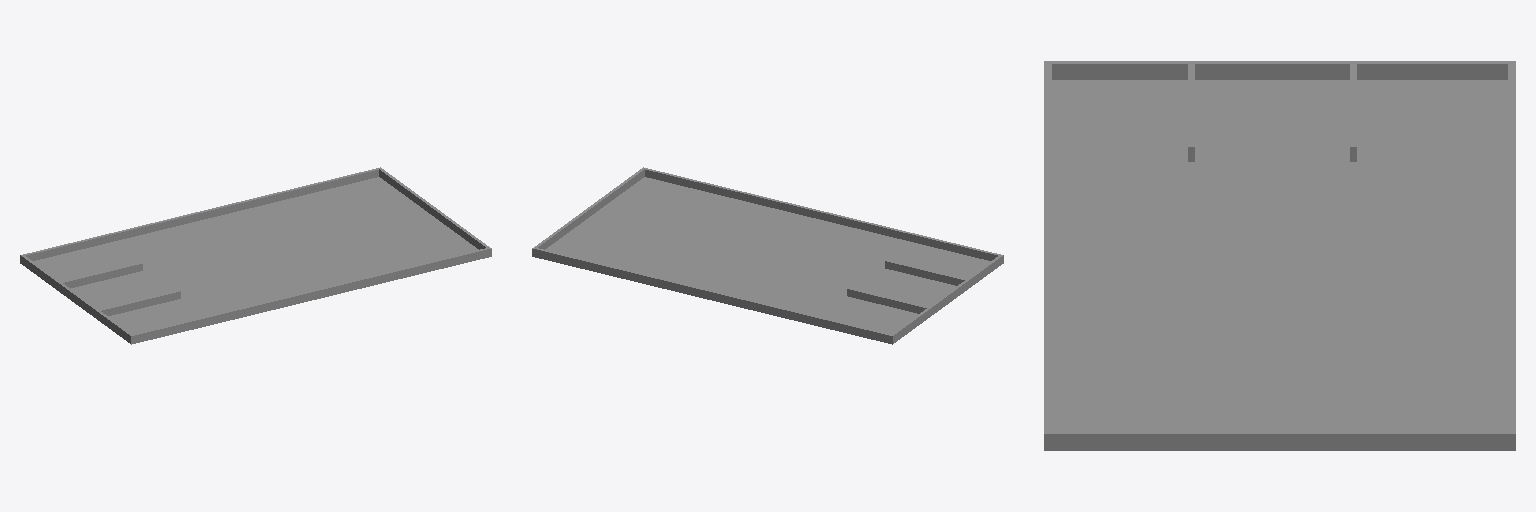
URDF robot description (f3rc2026_map_v1):
<?xml version="1.0" ?>
<!-- =================================================================================== -->
<!-- |    This document was autogenerated by xacro from /home/hao/Ubuntu_3/Private/simulator/ros2_ws/src/gazebo_simulator/models/f3rc2026_map_v1/urdf/f3rc2026_map_v1.xacro | -->
<!-- |    EDITING THIS FILE BY HAND IS NOT RECOMMENDED                                 | -->
<!-- =================================================================================== -->
<robot name="f3rc2026_map_v1">
  <material name="silver_default">
    <color rgba="0.700 0.700 0.700 1.000"/>
  </material>
  <material name="_">
    <color rgba="0.6274509803921569 0.6274509803921569 0.6274509803921569 1.0"/>
  </material>
  <link name="base_link">
    <inertial>
      <origin rpy="0 0 0" xyz="2.25 1.2 0.005"/>
      <mass value="847.8"/>
      <inertia ixx="406.951065" ixy="0.0" ixz="0.0" iyy="1430.669565" iyz="0.0" izz="1837.6065"/>
    </inertial>
    <visual>
      <origin rpy="0 0 0" xyz="0 0 0"/>
      <geometry>
        <mesh filename="package://f3rc2026_map_v1/meshes/base_link.stl" scale="0.001 0.001 0.001"/>
      </geometry>
      <material name="_"/>
    </visual>
    <collision>
      <origin rpy="0 0 0" xyz="0 0 0"/>
      <geometry>
        <mesh filename="package://f3rc2026_map_v1/meshes/base_link.stl" scale="0.001 0.001 0.001"/>
      </geometry>
    </collision>
  </link>
  <link name="2400_v2_1">
    <inertial>
      <origin rpy="0 0 0" xyz="0.0 2.220446049250313e-16 0.04449999999999997"/>
      <mass value="63.71688"/>
      <inertia ixx="30.626161" ixy="0.0" ixz="-0.0" iyy="0.049726" iyz="0.0" izz="30.59177"/>
    </inertial>
    <visual>
      <origin rpy="0 0 0" xyz="-4.481 -1.2 -0.01"/>
      <geometry>
        <mesh filename="package://f3rc2026_map_v1/meshes/2400_v2_1.stl" scale="0.001 0.001 0.001"/>
      </geometry>
      <material name="_"/>
    </visual>
    <collision>
      <origin rpy="0 0 0" xyz="-4.481 -1.2 -0.01"/>
      <geometry>
        <mesh filename="package://f3rc2026_map_v1/meshes/2400_v2_1.stl" scale="0.001 0.001 0.001"/>
      </geometry>
    </collision>
  </link>
  <link name="2400_v2_2">
    <inertial>
      <origin rpy="0 0 0" xyz="1.734723475976807e-17 -6.661338147750939e-16 0.044499999999999984"/>
      <mass value="63.71688"/>
      <inertia ixx="30.626161" ixy="0.0" ixz="0.0" iyy="0.049726" iyz="-0.0" izz="30.59177"/>
    </inertial>
    <visual>
      <origin rpy="0 0 0" xyz="-0.019 -1.2 -0.01"/>
      <geometry>
        <mesh filename="package://f3rc2026_map_v1/meshes/2400_v2_2.stl" scale="0.001 0.001 0.001"/>
      </geometry>
      <material name="_"/>
    </visual>
    <collision>
      <origin rpy="0 0 0" xyz="-0.019 -1.2 -0.01"/>
      <geometry>
        <mesh filename="package://f3rc2026_map_v1/meshes/2400_v2_2.stl" scale="0.001 0.001 0.001"/>
      </geometry>
    </collision>
  </link>
  <link name="4500_v1_1">
    <inertial>
      <origin rpy="0 0 0" xyz="0.0 3.469446951953614e-18 0.0445"/>
      <mass value="119.46915"/>
      <inertia ixx="0.093236" ixy="0.0" ixz="-0.0" iyy="201.68305" iyz="0.0" izz="201.618567"/>
    </inertial>
    <visual>
      <origin rpy="0 0 0" xyz="-2.25 -0.019 -0.01"/>
      <geometry>
        <mesh filename="package://f3rc2026_map_v1/meshes/4500_v1_1.stl" scale="0.001 0.001 0.001"/>
      </geometry>
      <material name="_"/>
    </visual>
    <collision>
      <origin rpy="0 0 0" xyz="-2.25 -0.019 -0.01"/>
      <geometry>
        <mesh filename="package://f3rc2026_map_v1/meshes/4500_v1_1.stl" scale="0.001 0.001 0.001"/>
      </geometry>
    </collision>
  </link>
  <link name="4500_v1_2">
    <inertial>
      <origin rpy="0 0 0" xyz="0.0 0.0 0.0445"/>
      <mass value="119.46915"/>
      <inertia ixx="0.093236" ixy="0.0" ixz="-0.0" iyy="201.68305" iyz="-0.0" izz="201.618567"/>
    </inertial>
    <visual>
      <origin rpy="0 0 0" xyz="-2.25 -2.381 -0.01"/>
      <geometry>
        <mesh filename="package://f3rc2026_map_v1/meshes/4500_v1_2.stl" scale="0.001 0.001 0.001"/>
      </geometry>
      <material name="_"/>
    </visual>
    <collision>
      <origin rpy="0 0 0" xyz="-2.25 -2.381 -0.01"/>
      <geometry>
        <mesh filename="package://f3rc2026_map_v1/meshes/4500_v1_2.stl" scale="0.001 0.001 0.001"/>
      </geometry>
    </collision>
  </link>
  <link name="1000_v2_1">
    <inertial>
      <origin rpy="0 0 0" xyz="0.0 0.0 0.04449999999999999"/>
      <mass value="26.548699999999997"/>
      <inertia ixx="0.020719" ixy="-0.0" ixz="-0.0" iyy="2.229916" iyz="0.0" izz="2.215586"/>
    </inertial>
    <visual>
      <origin rpy="0 0 0" xyz="-0.538 -0.75 -0.01"/>
      <geometry>
        <mesh filename="package://f3rc2026_map_v1/meshes/1000_v2_1.stl" scale="0.001 0.001 0.001"/>
      </geometry>
      <material name="_"/>
    </visual>
    <collision>
      <origin rpy="0 0 0" xyz="-0.538 -0.75 -0.01"/>
      <geometry>
        <mesh filename="package://f3rc2026_map_v1/meshes/1000_v2_1.stl" scale="0.001 0.001 0.001"/>
      </geometry>
    </collision>
  </link>
  <link name="1000_v2_2">
    <inertial>
      <origin rpy="0 0 0" xyz="0.0 1.9984014443252818e-15 0.04450000000000043"/>
      <mass value="26.548699999999997"/>
      <inertia ixx="0.020719" ixy="-0.0" ixz="0.0" iyy="2.229916" iyz="0.0" izz="2.215586"/>
    </inertial>
    <visual>
      <origin rpy="0 0 0" xyz="-0.538 -1.574 -0.01"/>
      <geometry>
        <mesh filename="package://f3rc2026_map_v1/meshes/1000_v2_2.stl" scale="0.001 0.001 0.001"/>
      </geometry>
      <material name="_"/>
    </visual>
    <collision>
      <origin rpy="0 0 0" xyz="-0.538 -1.574 -0.01"/>
      <geometry>
        <mesh filename="package://f3rc2026_map_v1/meshes/1000_v2_2.stl" scale="0.001 0.001 0.001"/>
      </geometry>
    </collision>
  </link>
  <joint name="fixed_joint_1" type="fixed">
    <origin rpy="0 0 0" xyz="4.481 1.2 0.01"/>
    <parent link="base_link"/>
    <child link="2400_v2_1"/>
  </joint>
  <joint name="fixed_joint_2" type="fixed">
    <origin rpy="0 0 0" xyz="0.019 1.2 0.01"/>
    <parent link="base_link"/>
    <child link="2400_v2_2"/>
  </joint>
  <joint name="fixed_joint_3" type="fixed">
    <origin rpy="0 0 0" xyz="2.25 0.019 0.01"/>
    <parent link="base_link"/>
    <child link="4500_v1_1"/>
  </joint>
  <joint name="fixed_joint_4" type="fixed">
    <origin rpy="0 0 0" xyz="2.25 2.381 0.01"/>
    <parent link="base_link"/>
    <child link="4500_v1_2"/>
  </joint>
  <joint name="fixed_joint_5" type="fixed">
    <origin rpy="0 0 0" xyz="0.538 0.75 0.01"/>
    <parent link="base_link"/>
    <child link="1000_v2_1"/>
  </joint>
  <joint name="fixed_joint_6" type="fixed">
    <origin rpy="0 0 0" xyz="0.538 1.574 0.01"/>
    <parent link="base_link"/>
    <child link="1000_v2_2"/>
  </joint>
  <!-- ros2_control plugin config (keep velocity interfaces compatible with existing controllers) -->
  <ros2_control name="GazeboSystem" type="system">
    <hardware>
      <plugin>gz_ros2_control/GazeboSimSystem</plugin>
    </hardware>
  </ros2_control>
  <gazebo>
    <plugin filename="libgz_ros2_control-system.so" name="gz_ros2_control::GazeboSimROS2ControlPlugin">
      <parameters>/home/hao/Ubuntu_3/Private/simulator/ros2_ws/install/gazebo_simulator/share/gazebo_simulator/config/controller_f3rc2026_map_v1.yaml</parameters>
    </plugin>
  </gazebo>
  <gazebo>
    <plugin filename="libgz-sim-pose-publisher-system.so" name="gz::sim::systems::PosePublisher">
      <publish_link_pose>true</publish_link_pose>
      <publish_model_pose>true</publish_model_pose>
      <use_pose_vector_msg>true</use_pose_vector_msg>
      <update_frequency>50</update_frequency>
    </plugin>
  </gazebo>
</robot>

--- Facts derived from the render (not from the file) ---
Views: 3 orthographic renders of the robot side by side, from view 1: azimuth 30°, elevation 25°; view 2: azimuth 150°, elevation 25°; view 3: azimuth 270°, elevation 25°.
Model f3rc2026_map_v1 with 7 links and 6 joints (6 fixed), rooted at base_link, posed every joint at zero.
Links seen in each view (by area): view 1: base_link, 4500_v1_1, 4500_v1_2, 2400_v2_2, 2400_v2_1, 1000_v2_1, 1000_v2_2; view 2: base_link, 4500_v1_2, 4500_v1_1, 2400_v2_2, 2400_v2_1, 1000_v2_2, 1000_v2_1; view 3: base_link, 2400_v2_1, 2400_v2_2, 4500_v1_2, 4500_v1_1, 1000_v2_1, 1000_v2_2.
Link boxes in pixels (<box>): base_link: <box>20,177,491,344</box>; 4500_v1_1: <box>130,247,491,342</box>; 4500_v1_2: <box>24,168,381,260</box>; 2400_v2_2: <box>20,254,133,343</box>; 2400_v2_1: <box>379,167,491,255</box>; 1000_v2_1: <box>99,290,180,315</box>; 1000_v2_2: <box>62,262,142,288</box>; base_link: <box>532,177,1003,344</box>; 4500_v1_2: <box>532,247,893,343</box>; 4500_v1_1: <box>642,168,1003,262</box>; 2400_v2_2: <box>890,255,1003,342</box>; 2400_v2_1: <box>532,167,645,255</box>; 1000_v2_2: <box>847,288,927,313</box>; 1000_v2_1: <box>885,260,965,285</box>; base_link: <box>1044,80,1515,450</box>; 2400_v2_1: <box>1044,431,1515,449</box>; 2400_v2_2: <box>1045,61,1515,79</box>; 4500_v1_2: <box>1508,62,1515,449</box>; 4500_v1_1: <box>1044,61,1051,449</box>; 1000_v2_1: <box>1188,64,1194,161</box>; 1000_v2_2: <box>1350,64,1356,161</box>.
Size in the robot's own frame: 4.5 by 2.4 by 0.099 metres.
7 mesh visuals loaded from 7 distinct referenced files (7 binary STL).
